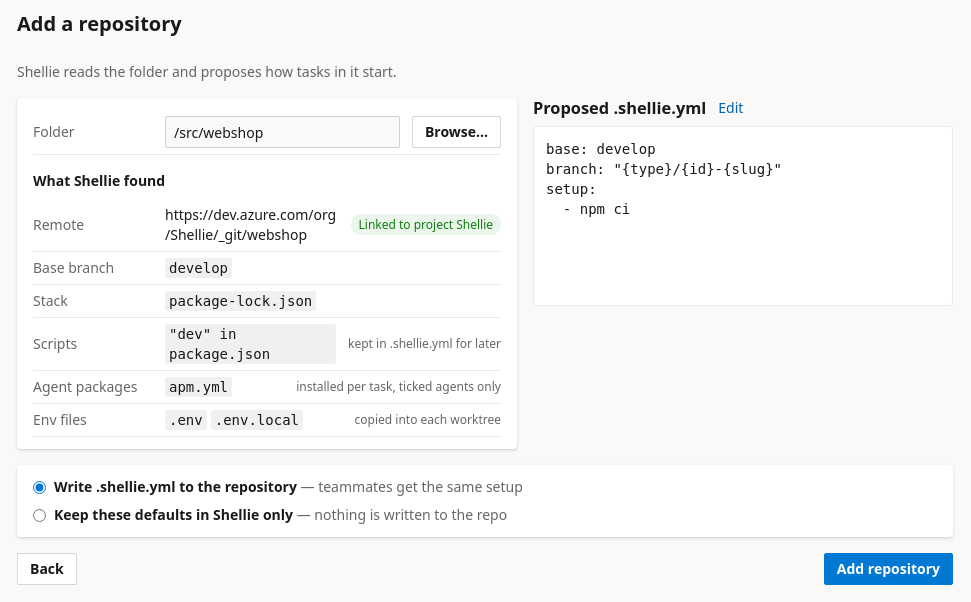
it: AddRepoScreen › disables Add as soon as the typed folder differs from the inspected one
Expected: the text "Linked to project Shellie" is shown, [350,214,501,235]
In the field labelled "Folder": (282, 132) [165,116,400,148], type "x"
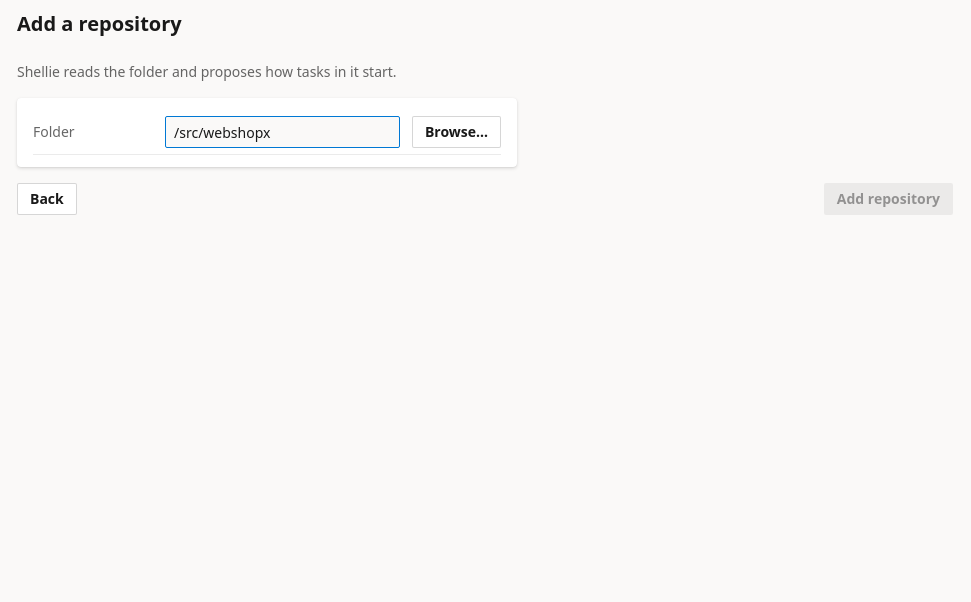
Expected: the button "Add repository" is disabled, [824,183,953,215]
